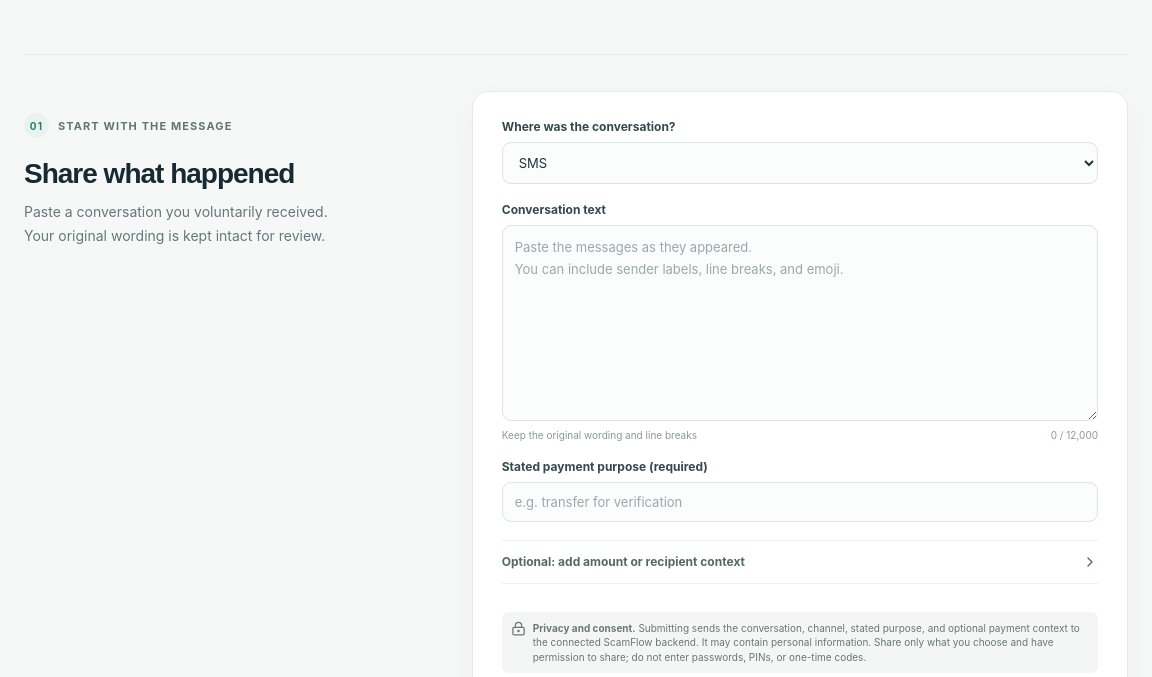
Test case: requires consent and does not submit invalid intake
This screenshot has width=1152, height=677.
(page scrolled)
Step 1. Type "A valid-length message." into the text box labelled "Conversation text" → (800, 323), box top-left (502, 225), bottom-right (1098, 421)
(page scrolled)
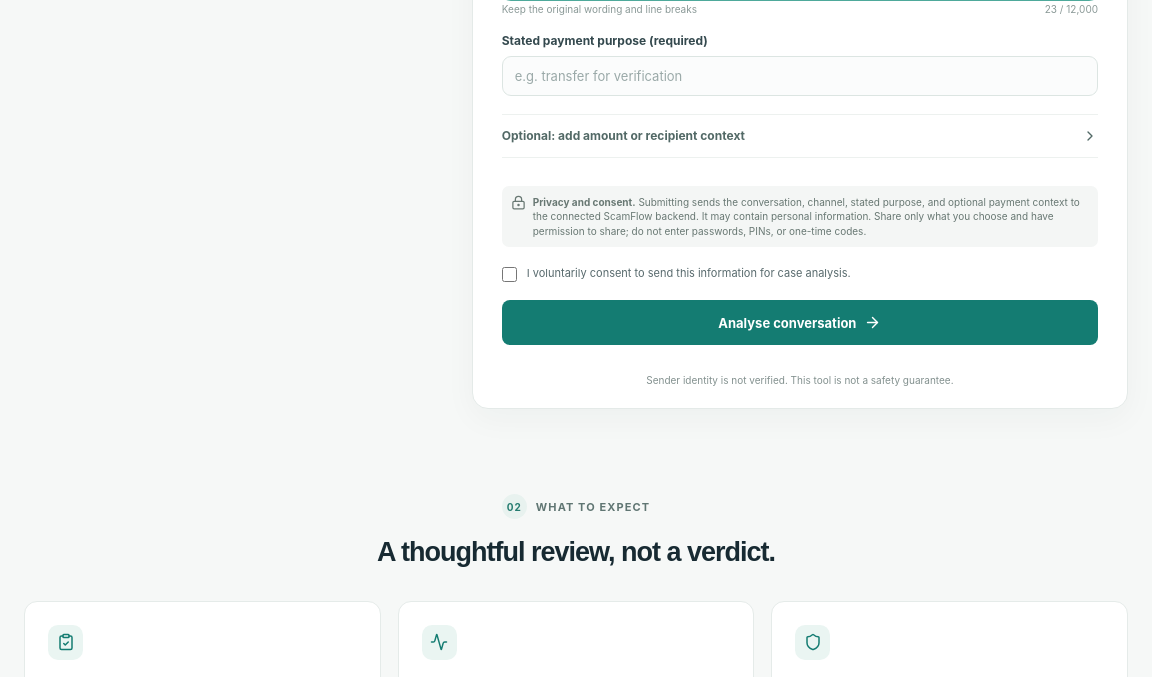
Step 2. Click the button "Analyse conversation" → (800, 323), box top-left (502, 300), bottom-right (1098, 345)
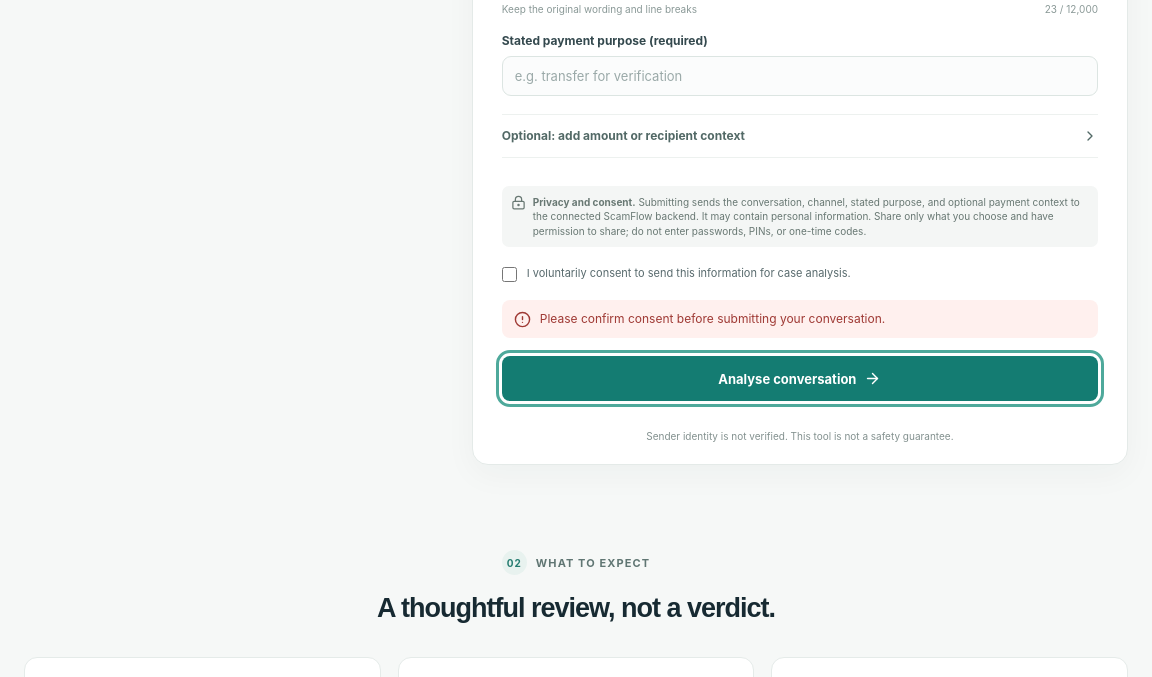
Now the message shows "confirm consent", box top-left (540, 311), bottom-right (885, 326)
